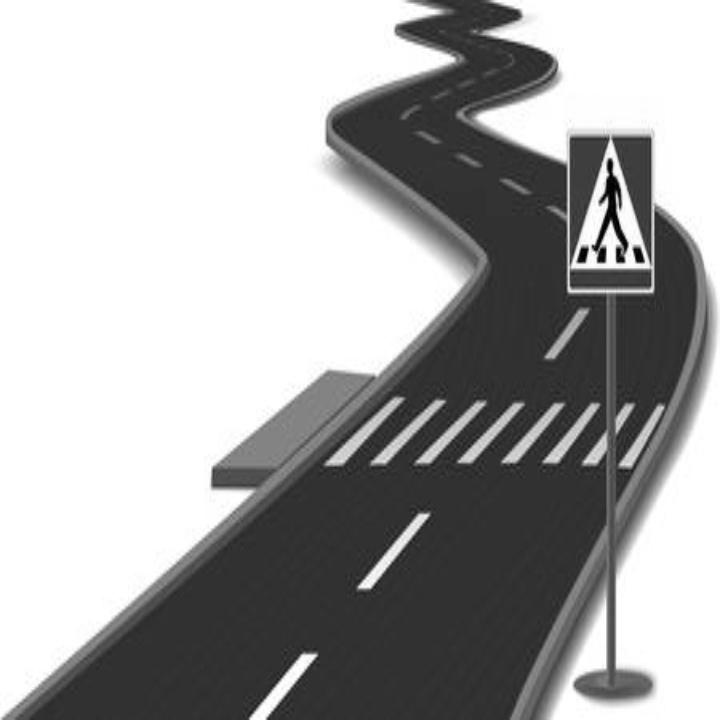cross: (564, 141, 663, 273)
